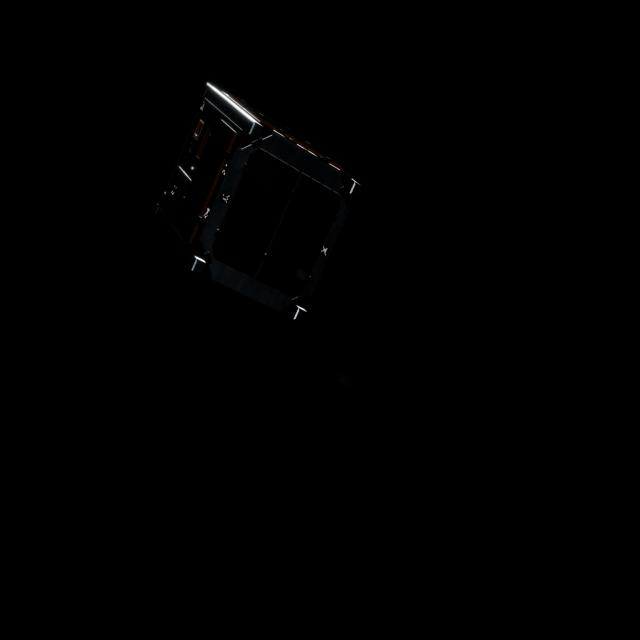medium_debris: (144, 73, 367, 325)
